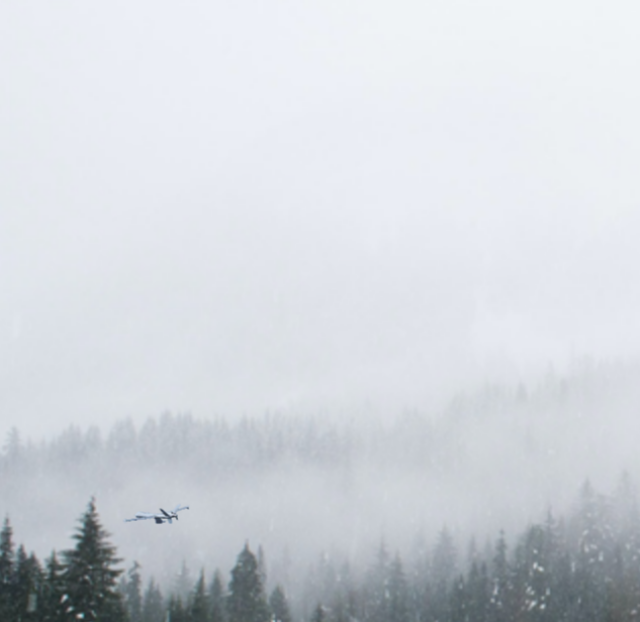military drone: (124, 503, 189, 524)
